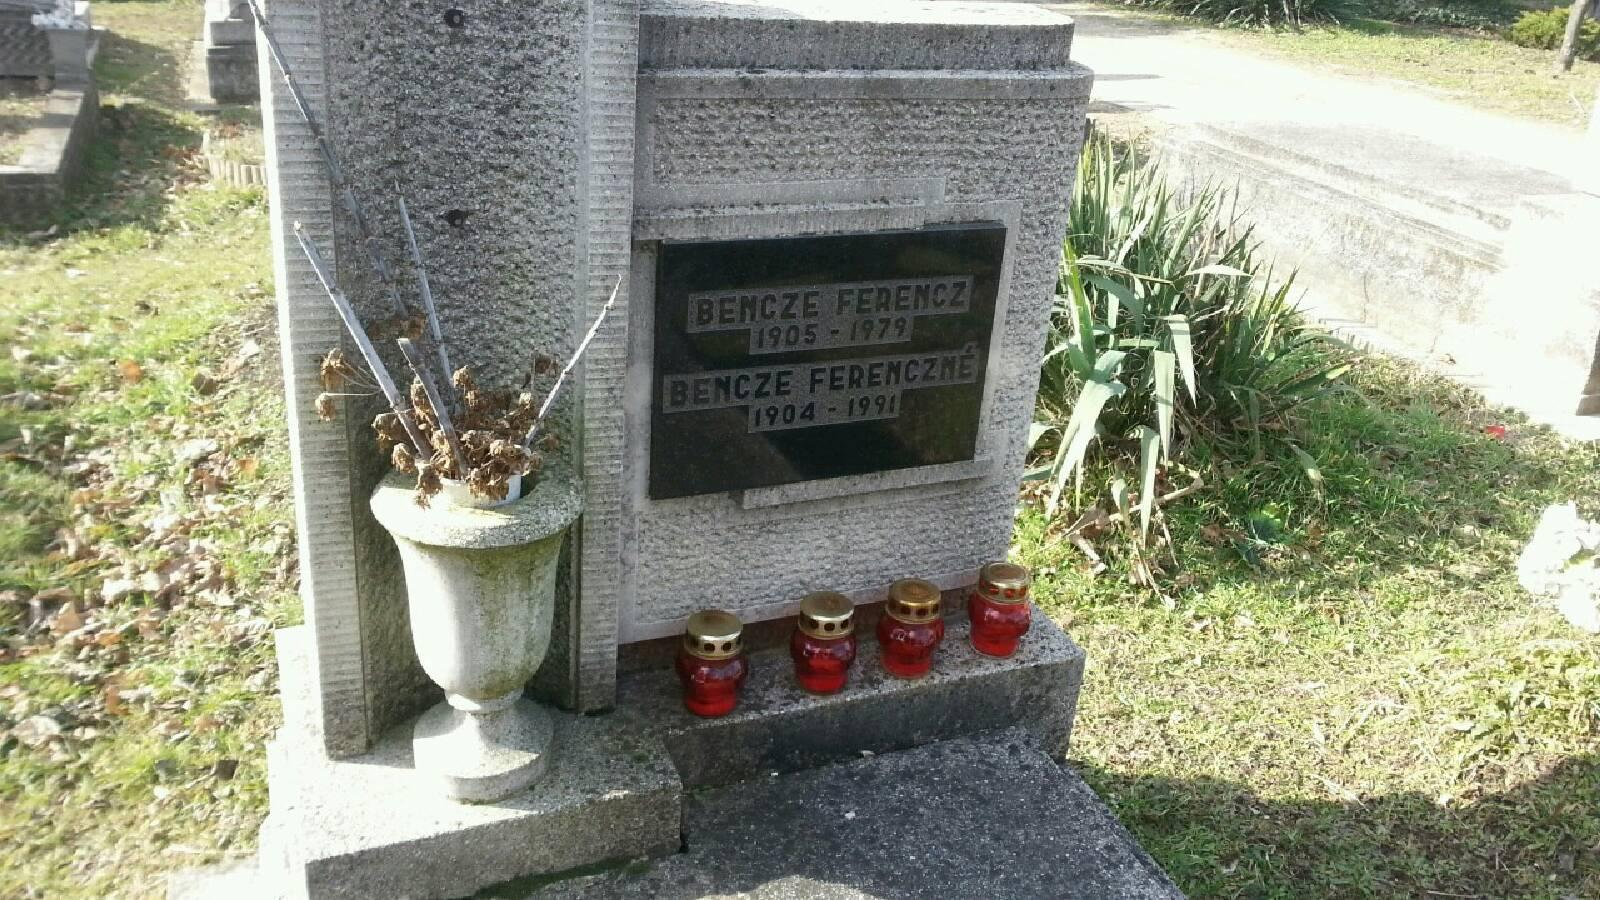upright: (227, 5, 1166, 900)
